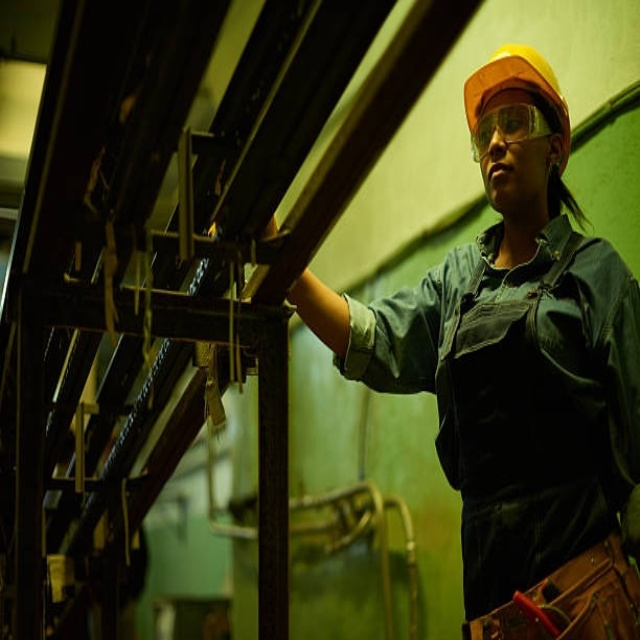Gafas: (470, 102, 557, 162)
Sin_mascara: (478, 153, 523, 196)
